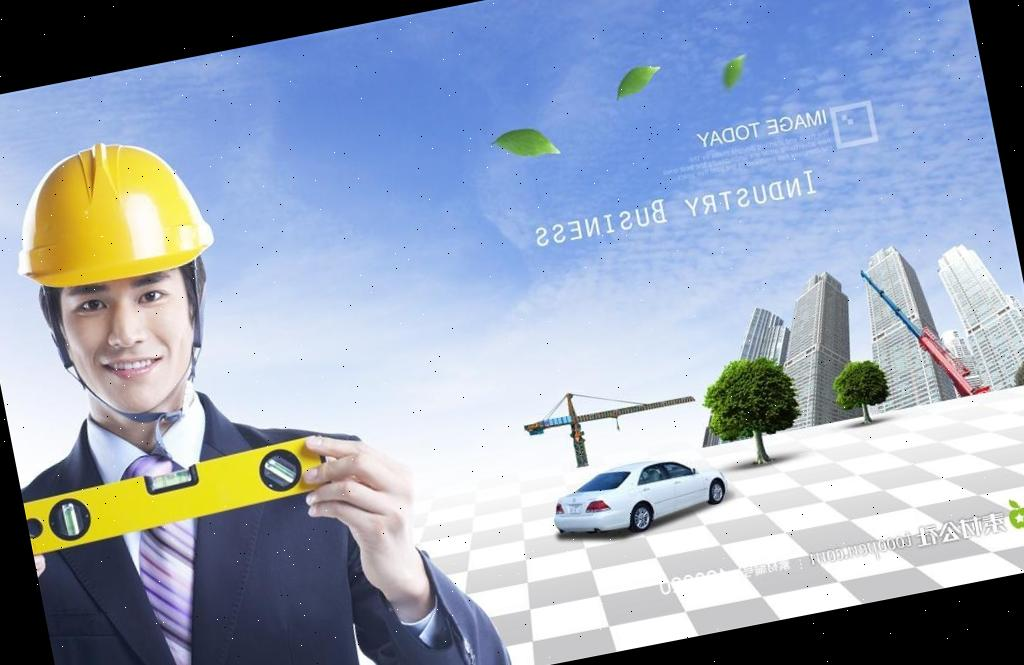helmet: (0, 121, 224, 304)
no_wear: (20, 401, 434, 665)
